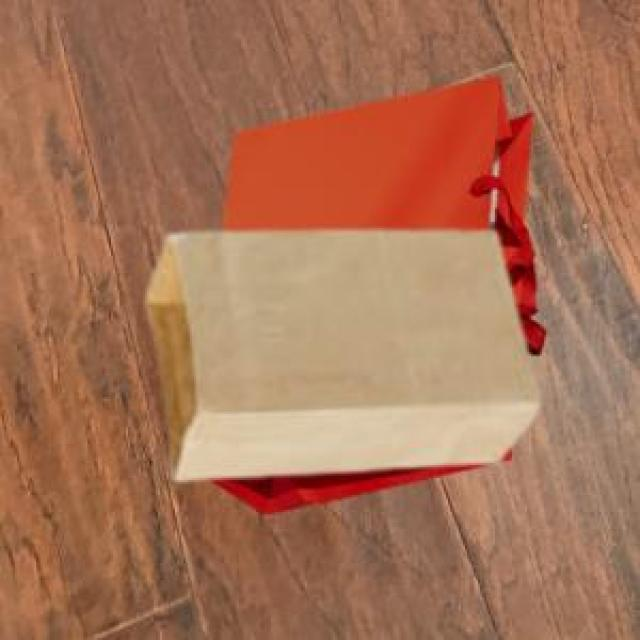paper: (205, 73, 542, 510), (143, 226, 536, 476)
